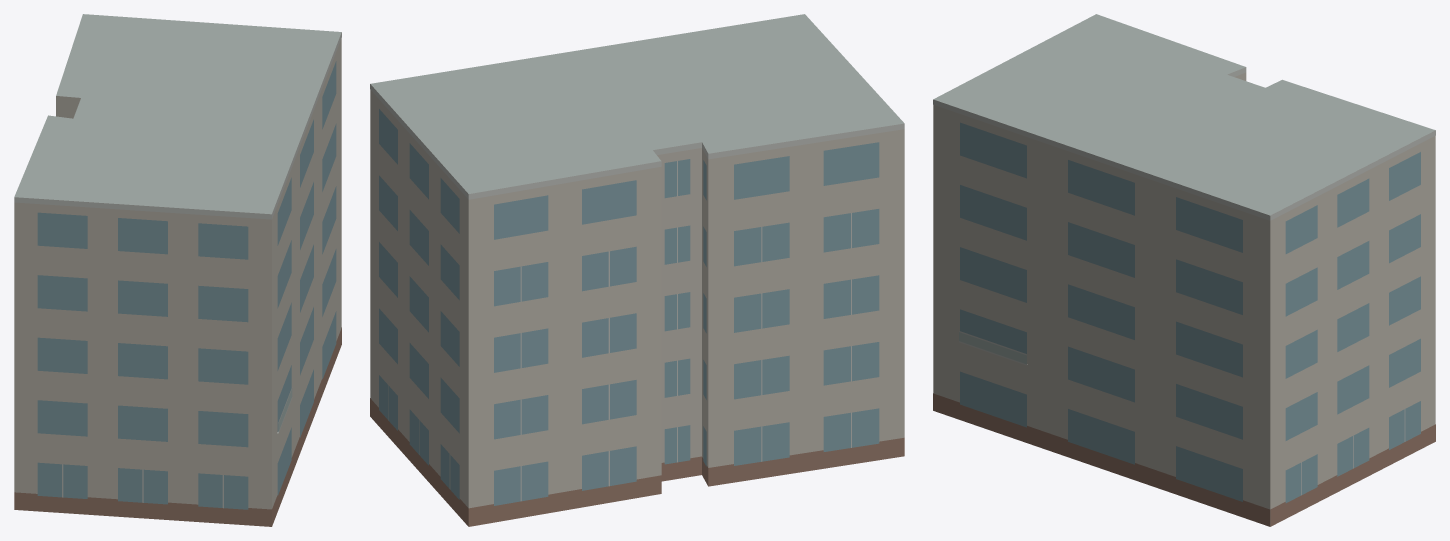
The model's file is survey-upis-32608964.glb.
3 views of the same model, side by side, from view 1: azimuth 30°, elevation 25°; view 2: azimuth 150°, elevation 25°; view 3: azimuth 270°, elevation 25° (orthographic). The views are drawn at different scales.
Parts seen in each view (by area): view 1: survey-upis-32608964.tmp; view 2: survey-upis-32608964.tmp; view 3: survey-upis-32608964.tmp.
Boxes of the visible parts, <box> form: survey-upis-32608964.tmp: <box>14,14,341,526</box>; survey-upis-32608964.tmp: <box>370,14,904,526</box>; survey-upis-32608964.tmp: <box>933,14,1435,526</box>.
Bounding box in the file's own units: 20.01 × 14.4 × 21.08.
